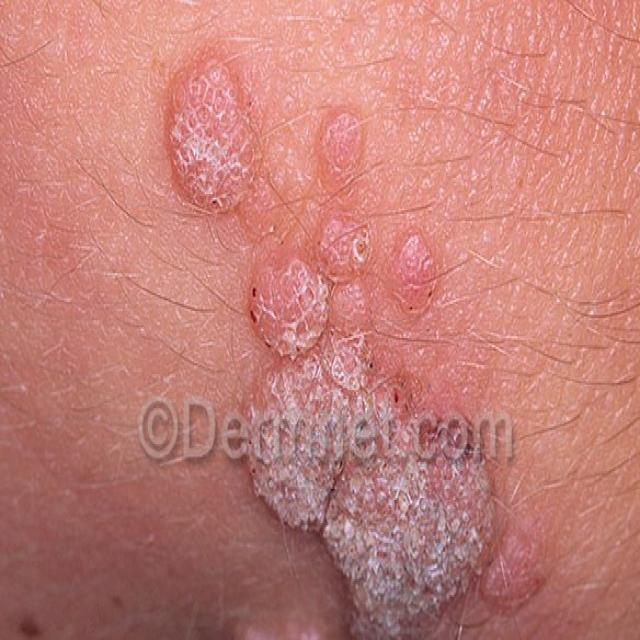Warts: (144, 0, 545, 640)
